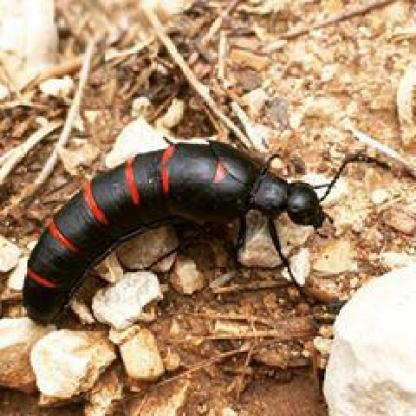beetle: (25, 140, 362, 333)
